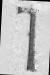Aa27: (3, 0, 48, 74)
